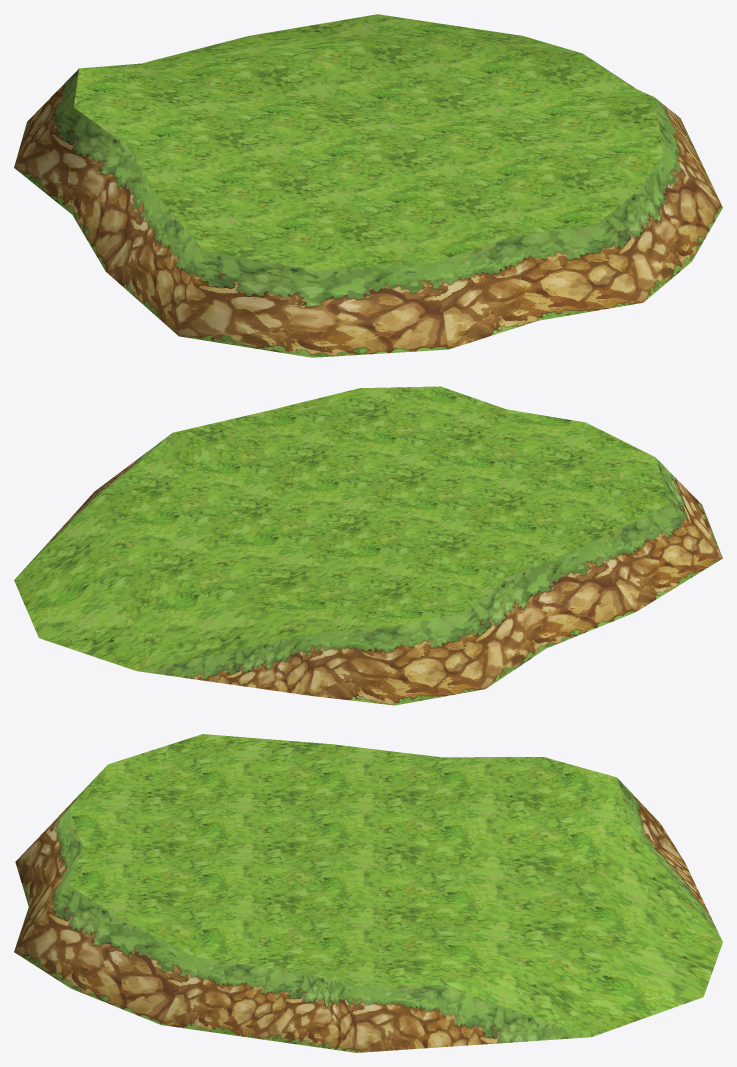
Rendered from ground_Terrain_01.fbx.
The picture shows the model from 3 angles, top to bottom: view 1: azimuth 30°, elevation 25°; view 2: azimuth 150°, elevation 25°; view 3: azimuth 270°, elevation 25°; orthographic projection. The views are drawn at different scales.
Visible parts, largest first — view 1: ground_Terrain_01; view 2: ground_Terrain_01; view 3: ground_Terrain_01.
Part boxes in pixels (x1,y1,x2,y2): ground_Terrain_01: [14, 14, 722, 357]; ground_Terrain_01: [14, 386, 722, 705]; ground_Terrain_01: [14, 734, 722, 1052].
Bounding box in the file's own units: 1094 × 110 × 1176.
